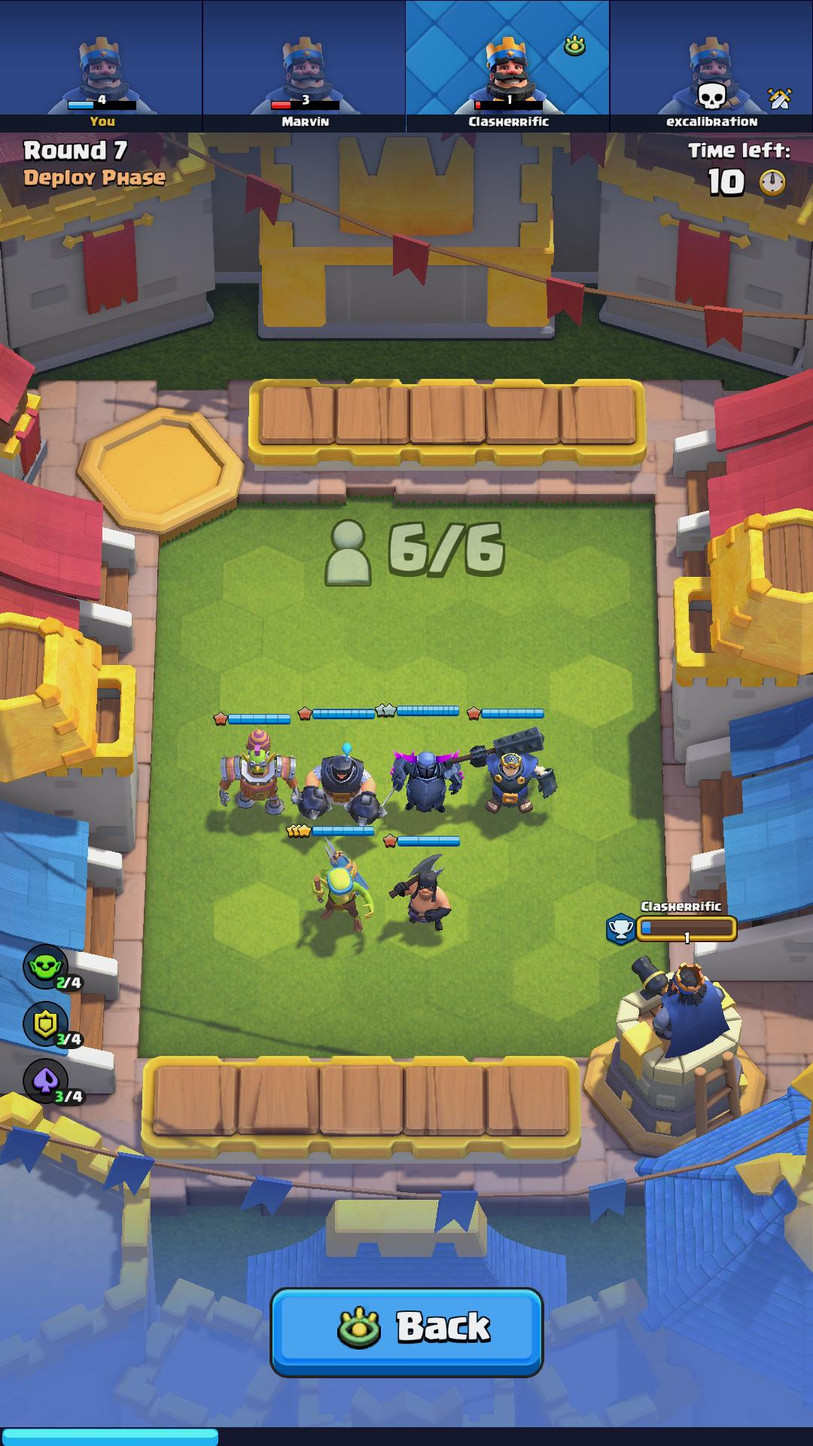executioner: (381, 851, 459, 938)
king: (459, 722, 562, 827)
machine: (212, 729, 301, 823)
mega: (296, 739, 384, 827)
pekka: (381, 738, 467, 820)
spear: (294, 841, 383, 939)
